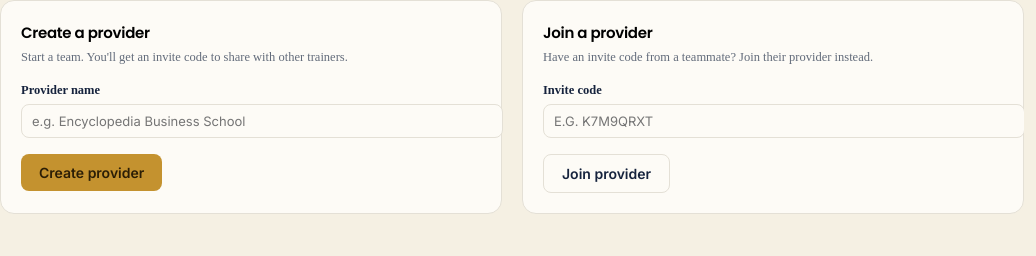
Test case: TeamTab — not a member › shows an error and stays on the form when create fails
This screenshot has width=1036, height=256.
Type "Acme Training" into the field with placeholder "e.g. Encyclopedia Business School" at {"x": 262, "y": 121}, box [21, 104, 503, 138]
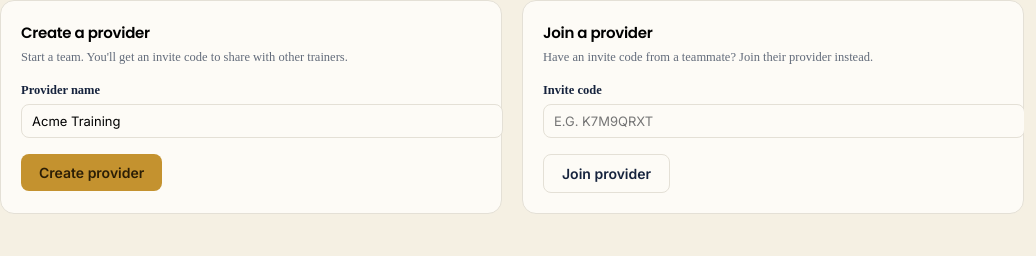
Click the button "Create provider" at {"x": 92, "y": 172}, box [21, 154, 162, 191]
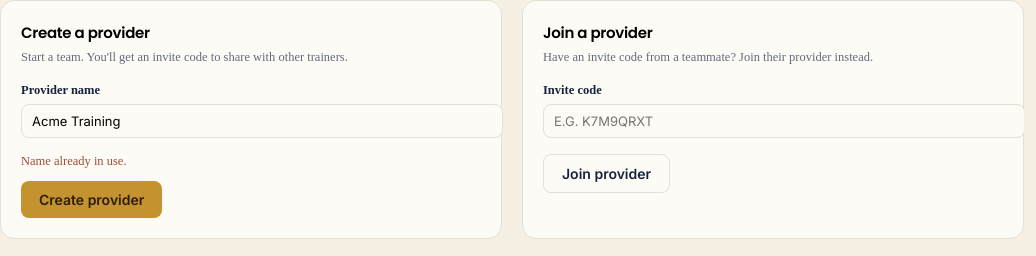
Now the text "Name already in use." is shown, box [21, 154, 126, 168]
